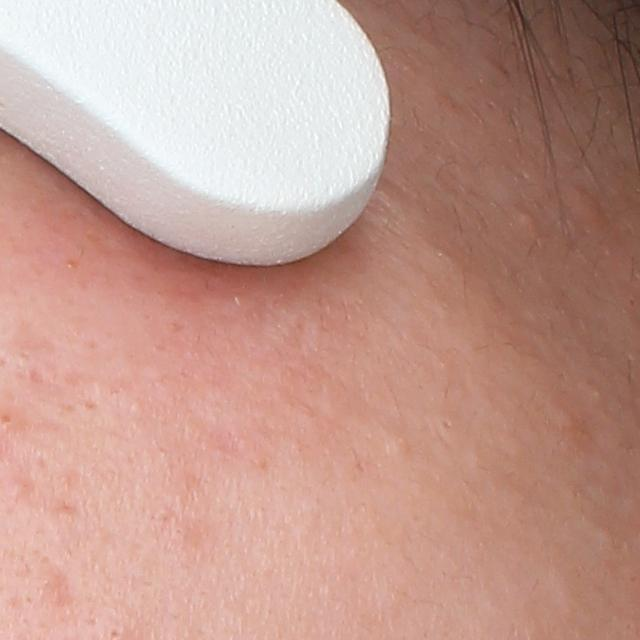comedo: (380, 430, 417, 456), (7, 476, 33, 497), (517, 208, 539, 228)
